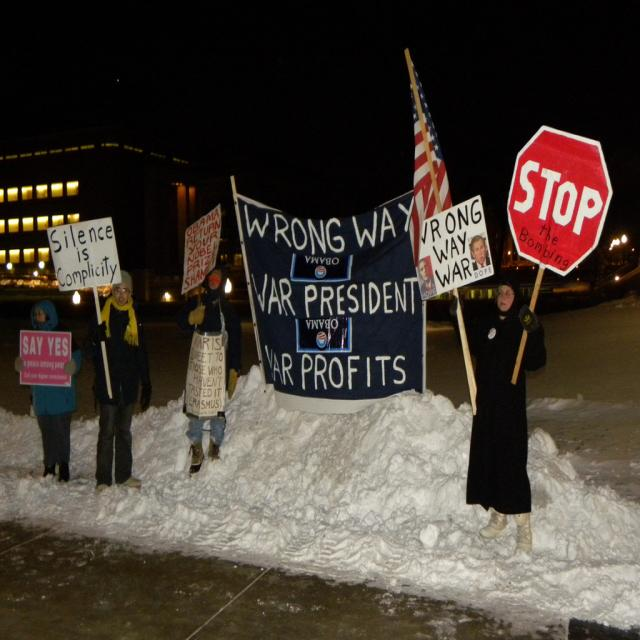Stop-sign: (504, 124, 614, 278)
